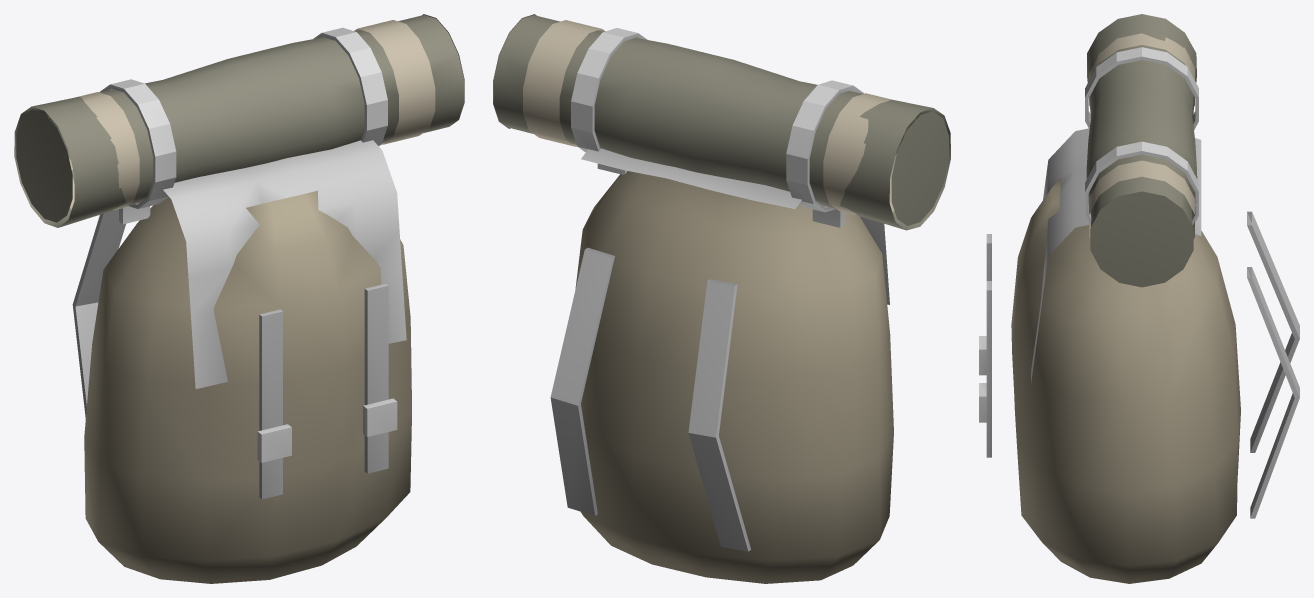
File: pack.glb
3 renders of one model, left to right at view 1: azimuth 30°, elevation 25°; view 2: azimuth 150°, elevation 25°; view 3: azimuth 270°, elevation 25°, orthographic. The views are drawn at different scales.
Parts seen in each view (by area): view 1: pack; view 2: pack; view 3: pack.
Part boxes in pixels (<box>): pack: <box>14,14,464,583</box>; pack: <box>493,14,950,583</box>; pack: <box>979,14,1299,583</box>.
Bounding box in the file's own units: 0.658 × 0.7468 × 0.504.
